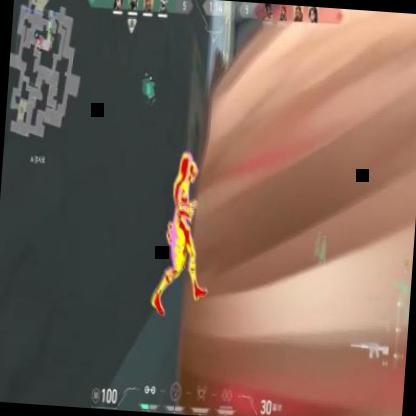enemy_head: (148, 148, 218, 321), (184, 160, 199, 186)
